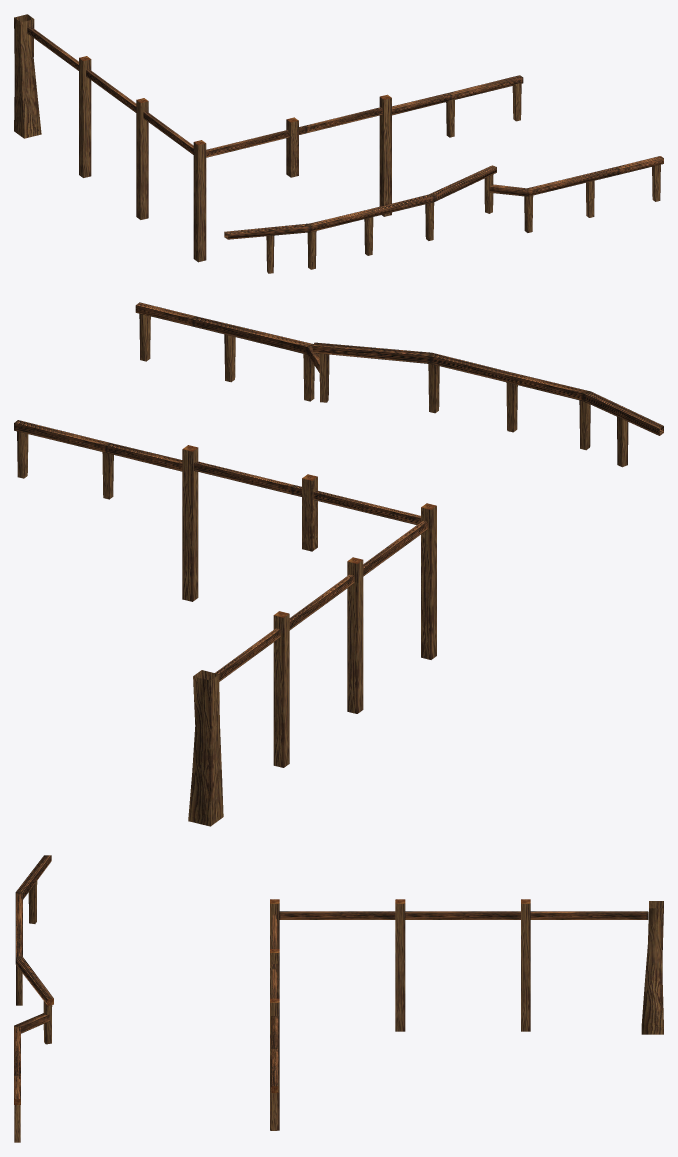
File: LAKETOWN_EXTERIOR_PS_LT_HANDRAILS_3939__GX.fbx
3 views of the same model, one above another, from view 1: azimuth 30°, elevation 25°; view 2: azimuth 150°, elevation 25°; view 3: azimuth 270°, elevation 25° (orthographic). The views are drawn at different scales.
Visible parts, largest first — view 1: LAKETOWN_EXTERIOR_PS_LT_HANDRAILS_3939__GX; view 2: LAKETOWN_EXTERIOR_PS_LT_HANDRAILS_3939__GX; view 3: LAKETOWN_EXTERIOR_PS_LT_HANDRAILS_3939__GX.
Boxes of the visible parts, x1,y1,x2,y2 form: LAKETOWN_EXTERIOR_PS_LT_HANDRAILS_3939__GX: [14, 14, 663, 273]; LAKETOWN_EXTERIOR_PS_LT_HANDRAILS_3939__GX: [14, 302, 663, 826]; LAKETOWN_EXTERIOR_PS_LT_HANDRAILS_3939__GX: [14, 855, 663, 1142].
Bounding box in the file's own units: 102761 × 28346 × 125348.
4 materials, 4 textured.
